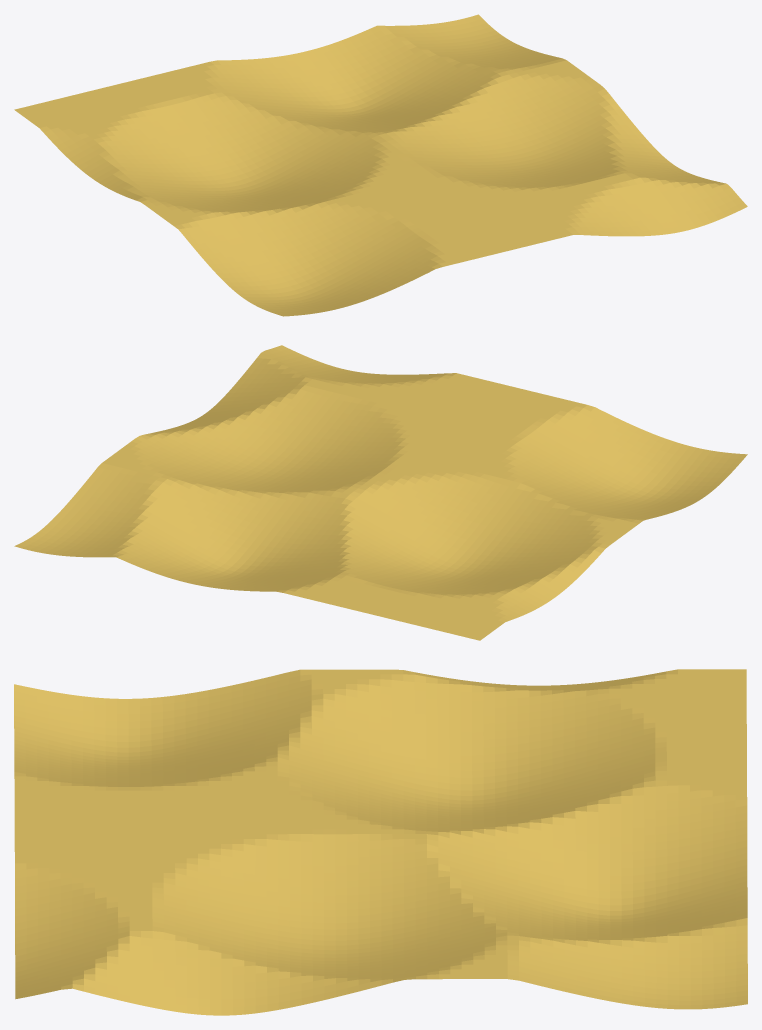
Rendered from Sand1.gltf.
3 renders of one model, top to bottom at view 1: azimuth 30°, elevation 25°; view 2: azimuth 150°, elevation 25°; view 3: azimuth 270°, elevation 25°, orthographic. The views are drawn at different scales.
Visible parts, largest first — view 1: Sand; view 2: Sand; view 3: Sand.
Part boxes in pixels (x1,y1,x2,y2): Sand: (14,14,747,316); Sand: (14,345,747,640); Sand: (14,669,747,1015).
Bounding box in the file's own units: 91.15 × 6.61 × 91.15.
1 material, 1 textured.
